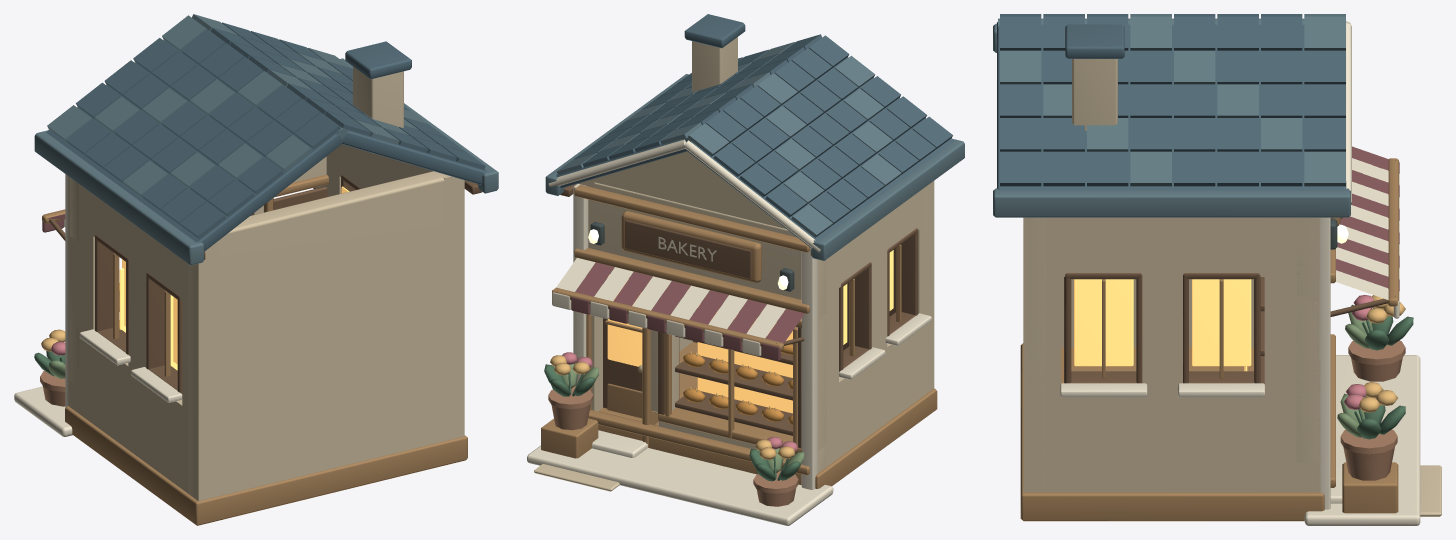
Rendered from bakery.glb.
The picture shows the model from 3 angles, left to right: view 1: azimuth 30°, elevation 25°; view 2: azimuth 150°, elevation 25°; view 3: azimuth 270°, elevation 25°; orthographic projection. The views are drawn at different scales.
Visible parts, largest first — view 1: Rear masonry, Side base masonry, Stone plinth, Side upper masonry, Deep overhanging eave, Thick sloping roof slab, Side upper masonry.001, Side window masonry pier, Thick sloping roof slab.001, Chimney, Side window masonry pier.002, Side window masonry pier.005 (+57 smaller); view 2: Broad stone doorstep, Side base masonry, Upper front lintel, Front gable, Stone plinth, Side upper masonry, Deep overhanging eave, Corner pilaster, Bakery sign inset, Facade cornice.002, Facade cornice.001, Golden rear wall (+93 smaller); view 3: Side base masonry.001, Side upper masonry.001, Deep overhanging eave.001, Stone plinth, Broad stone doorstep, Side window masonry pier.003, Recessed side amber pane.003, Recessed side amber pane.002, Thick sloping roof slab.001, Side window masonry pier.004, Side window masonry pier.005, Rear masonry (+66 smaller).
Part boxes in pixels (x1,y1,x2,y2): Rear masonry: (188, 171, 461, 499); Side base masonry: (69, 323, 218, 501); Stone plinth: (65, 406, 467, 525); Side upper masonry: (69, 177, 218, 313); Deep overhanging eave: (34, 130, 204, 265); Thick sloping roof slab: (46, 40, 343, 251); Side upper masonry.001: (326, 144, 464, 252); Side window masonry pier: (69, 219, 94, 331); Thick sloping roof slab.001: (342, 129, 487, 184); Chimney: (353, 66, 403, 127); Side window masonry pier.002: (182, 301, 218, 417); Side window masonry pier.005: (444, 248, 464, 357); Broad stone doorstep: (527, 445, 833, 525); Side base masonry: (817, 313, 934, 473); Upper front lintel: (578, 182, 826, 318); Front gable: (588, 151, 785, 228); Stone plinth: (598, 388, 937, 488); Side upper masonry: (799, 181, 934, 303); Deep overhanging eave: (811, 139, 964, 260); Corner pilaster: (801, 247, 817, 489); Bakery sign inset: (625, 220, 751, 278); Facade cornice.002: (574, 184, 809, 252); Facade cornice.001: (574, 248, 809, 313); Golden rear wall: (697, 304, 795, 413); Side base masonry.001: (1023, 396, 1320, 492); Side upper masonry.001: (1023, 217, 1320, 276); Deep overhanging eave.001: (993, 188, 1350, 217); Stone plinth: (1020, 343, 1324, 521); Broad stone doorstep: (1304, 355, 1420, 525); Side window masonry pier.003: (1264, 277, 1320, 396); Recessed side amber pane.003: (1074, 279, 1133, 366); Recessed side amber pane.002: (1192, 279, 1251, 366); Thick sloping roof slab.001: (997, 25, 1346, 190); Side window masonry pier.004: (1142, 277, 1182, 396); Side window masonry pier.005: (1023, 277, 1060, 396); Rear masonry: (1027, 217, 1045, 491).
Size of the model in its own units: 3.73 by 4.55 by 4.07.
